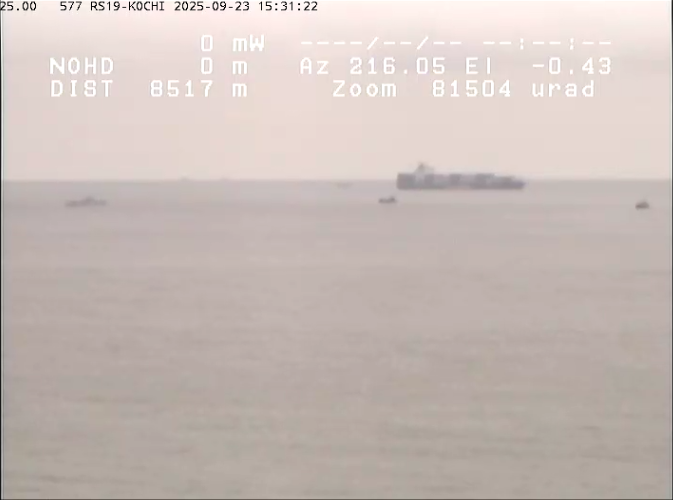CARGO_SHIPS: (380, 153, 535, 192)
FISHING_BOAT: (623, 192, 659, 215)
